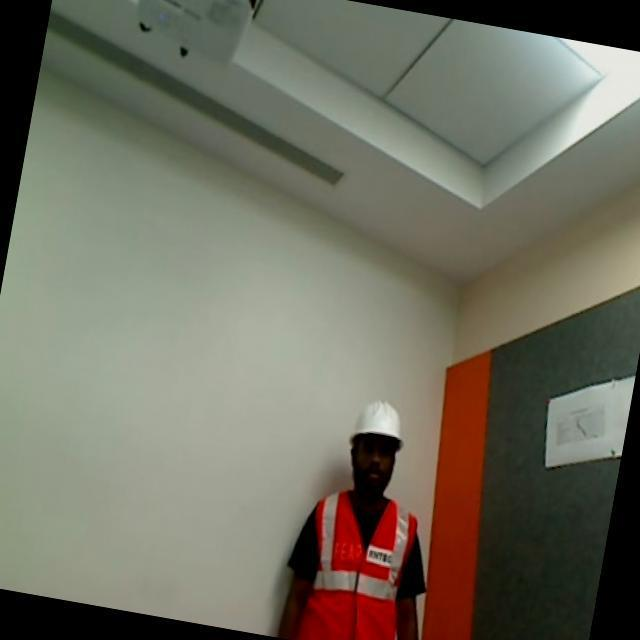helmet: (349, 393, 414, 459)
vest: (287, 482, 425, 640)
